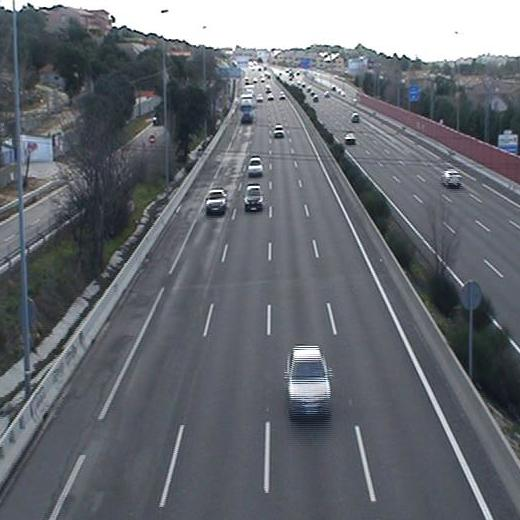car: (285, 345, 335, 419), (205, 188, 229, 214), (242, 184, 264, 211), (247, 156, 263, 177), (273, 124, 286, 139)
truck: (237, 94, 255, 124)
